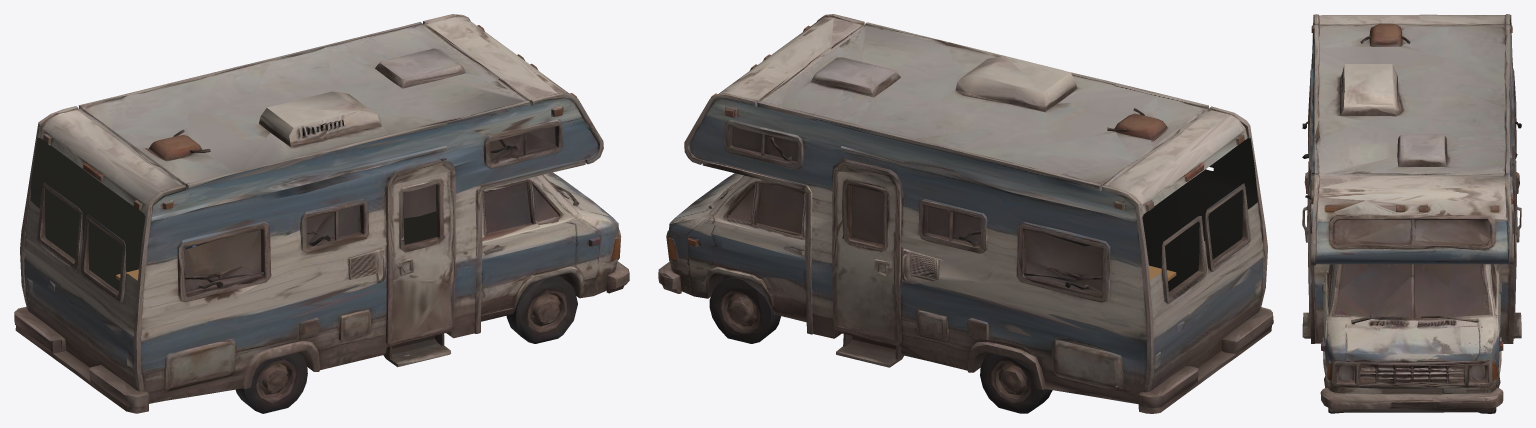
Rendered from motorhome.glb.
3 views of the same model, side by side, from view 1: azimuth 30°, elevation 25°; view 2: azimuth 150°, elevation 25°; view 3: azimuth 270°, elevation 25° (orthographic). The views are drawn at different scales.
Parts seen in each view (by area): view 1: body, door_entry, door_front_1, wheel_3, wheel_2; view 2: body, door_back_1, wheel_4, wheel_1; view 3: body, door_back_1, door_front_1, door_entry.
Part boxes in pixels (x1,y1,x2,y2): body: (14,14,629,413); door_entry: (384,160,454,345); door_front_1: (481,175,566,312); wheel_3: (506,275,577,343); wheel_2: (235,351,308,413); body: (658,14,1273,413); door_back_1: (721,175,806,312); wheel_4: (708,276,772,343); wheel_1: (979,353,1052,413); body: (1302,14,1521,412); door_back_1: (1486,264,1501,351); door_front_1: (1322,264,1337,341); door_entry: (1304,153,1313,321).
Size of the model in its own units: 7 by 3.48 by 2.9.
12 materials, 4 textured.
